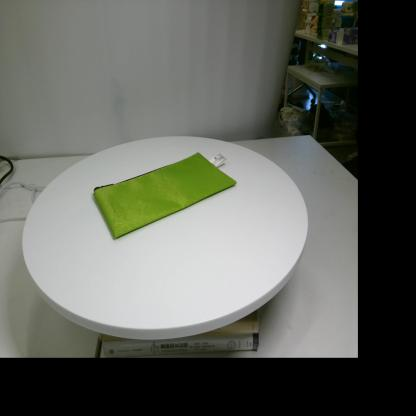Stationery: (93, 152, 237, 239)
